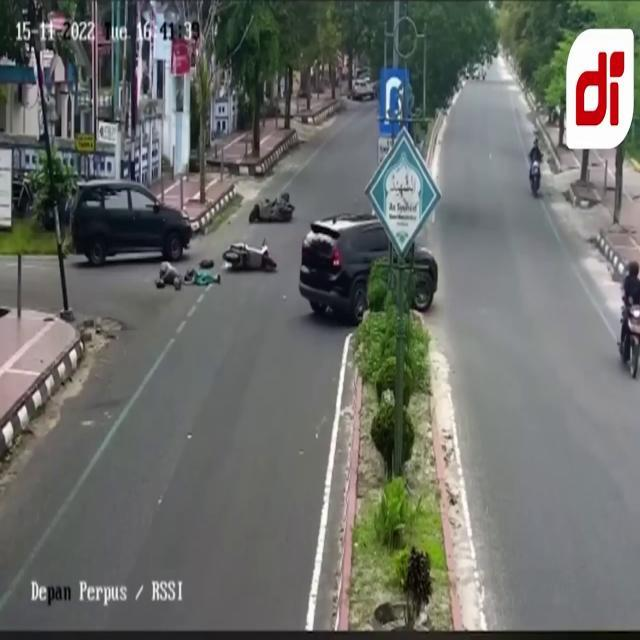multiple_accident: (52, 173, 203, 281), (153, 233, 276, 293), (240, 187, 306, 236)
normal: (290, 203, 450, 338), (523, 120, 561, 215), (619, 250, 640, 385)
